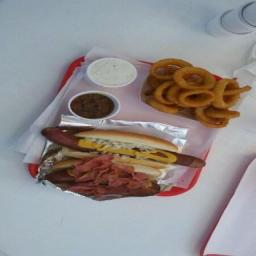hotdog: (41, 127, 208, 170)
